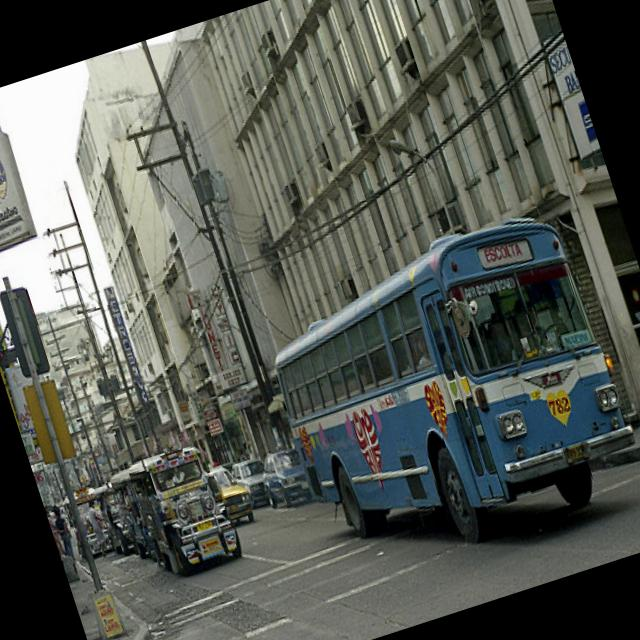Vehicle: (245, 205, 640, 594), (106, 465, 162, 566), (208, 462, 258, 532), (256, 447, 310, 509), (93, 482, 135, 558), (230, 456, 276, 512)
